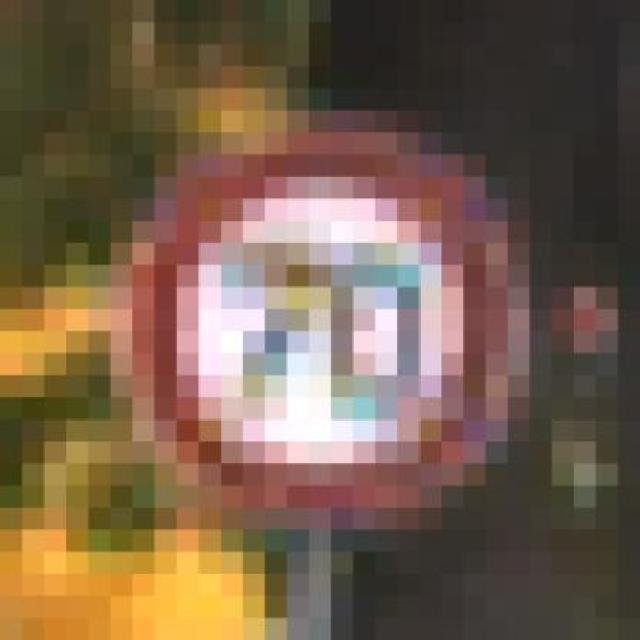forb_speed_over_70: (137, 142, 508, 506)
